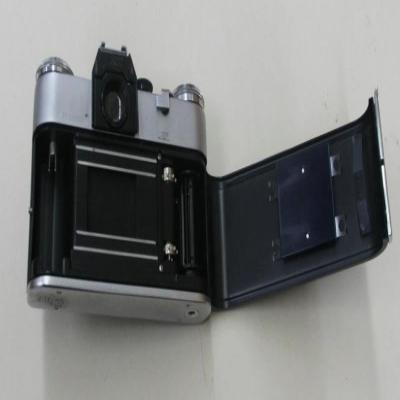technique: (26, 44, 393, 327)
